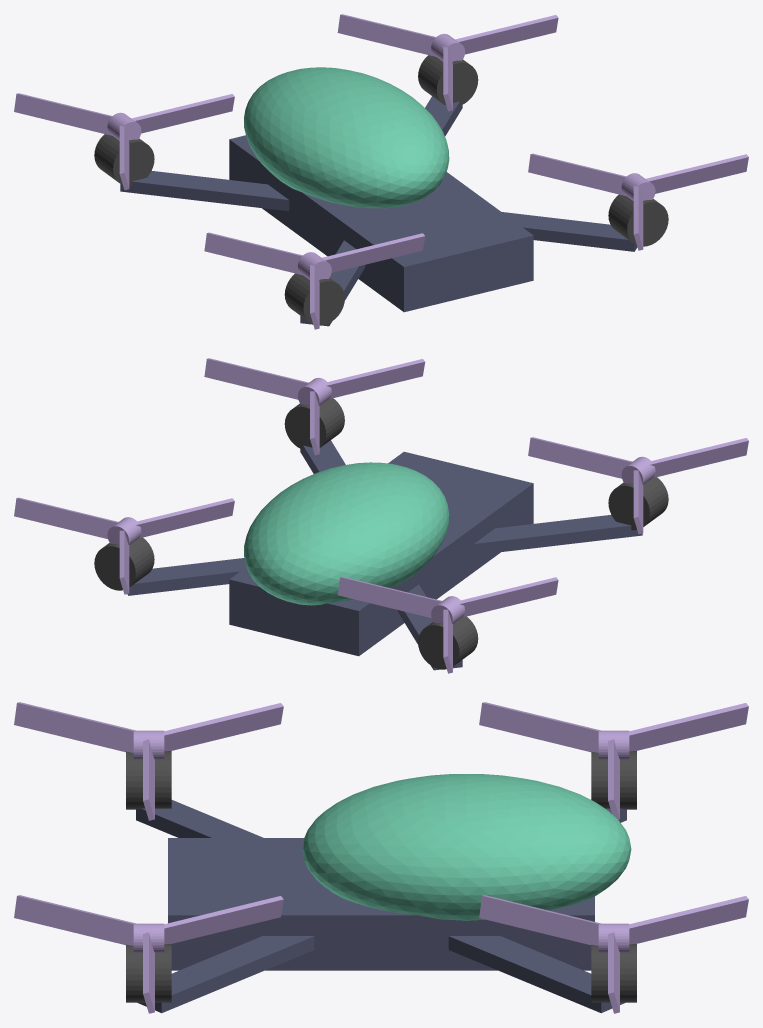
The model's file is DRP Mib 5.glb.
The picture shows the model from 3 angles, top to bottom: view 1: azimuth 30°, elevation 25°; view 2: azimuth 150°, elevation 25°; view 3: azimuth 270°, elevation 25°; orthographic projection. The views are drawn at different scales.
Visible parts, largest first — view 1: canopy, frame_body, prop_3, prop_0, prop_2, prop_1, arm_3, arm_0, motor_0, motor_2, motor_1, motor_3 (+2 smaller); view 2: canopy, frame_body, prop_2, prop_1, prop_0, prop_3, arm_2, arm_1, motor_1, motor_3, motor_0, motor_2 (+2 smaller); view 3: canopy, frame_body, prop_0, prop_2, prop_1, prop_3, arm_1, arm_0, arm_2, motor_1, motor_0, motor_2 (+1 smaller).
Part boxes in pixels (left/top/right/bottom): canopy: left=244, top=67, right=449, bottom=208; frame_body: left=229, top=135, right=533, bottom=312; prop_3: left=14, top=93, right=234, bottom=190; prop_0: left=528, top=153, right=748, bottom=250; prop_2: left=204, top=232, right=425, bottom=329; prop_1: left=337, top=14, right=558, bottom=111; arm_3: left=120, top=171, right=289, bottom=211; arm_0: left=502, top=212, right=637, bottom=251; motor_0: left=608, top=194, right=668, bottom=246; motor_2: left=284, top=273, right=344, bottom=325; motor_1: left=418, top=55, right=478, bottom=105; motor_3: left=94, top=134, right=154, bottom=186; canopy: left=244, top=462, right=449, bottom=605; frame_body: left=229, top=451, right=533, bottom=656; prop_2: left=528, top=437, right=748, bottom=534; prop_1: left=14, top=497, right=234, bottom=594; prop_0: left=204, top=358, right=425, bottom=455; prop_3: left=337, top=576, right=558, bottom=673; arm_2: left=473, top=515, right=642, bottom=555; arm_1: left=127, top=558, right=246, bottom=595; motor_1: left=94, top=537, right=154, bottom=590; motor_3: left=418, top=616, right=478, bottom=669; motor_0: left=284, top=398, right=344, bottom=449; motor_2: left=608, top=477, right=668, bottom=530; canopy: left=302, top=774, right=631, bottom=920; frame_body: left=168, top=838, right=594, bottom=970; prop_0: left=14, top=895, right=283, bottom=1013; prop_2: left=14, top=702, right=283, bottom=820; prop_1: left=479, top=895, right=748, bottom=1013; prop_3: left=479, top=702, right=748, bottom=819; arm_1: left=448, top=936, right=625, bottom=1013; arm_0: left=137, top=936, right=314, bottom=1013; arm_2: left=136, top=800, right=263, bottom=837; motor_1: left=591, top=944, right=636, bottom=1002; motor_0: left=126, top=944, right=171, bottom=1002; motor_2: left=126, top=751, right=171, bottom=809.
Bounding box in the file's own units: 0.2265 × 0.0516 × 0.2411.
